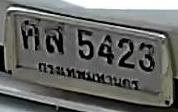number: (17, 17, 157, 73)
province: (36, 61, 140, 91)
